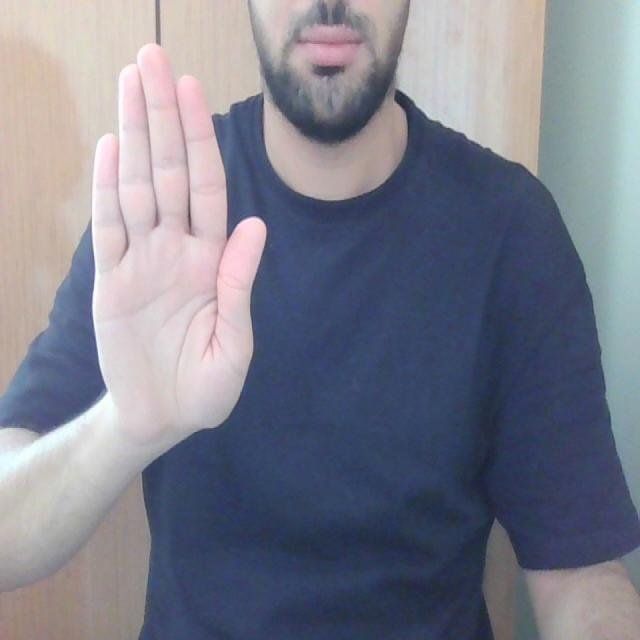Dur: (82, 40, 267, 442)
